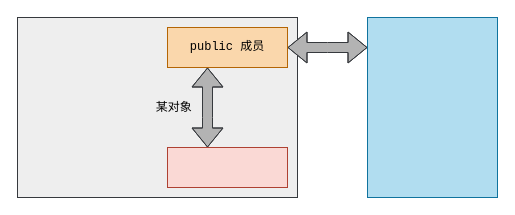
Image size: 515x215. Some labels were removed from this diagram. The centre of each missing label's shape, as x and y in pixels:
"private 成员" belongs at point 227,167.
"外界" belongs at point 432,107.
